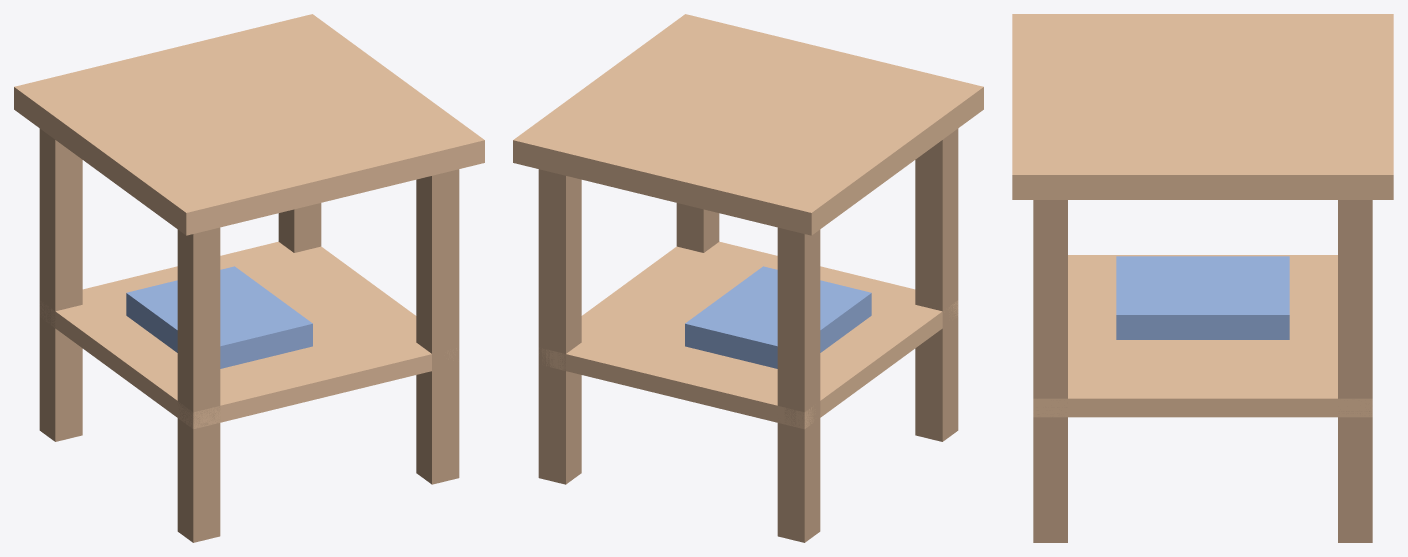
Rendered from sideEndTwoTier.glb.
3 views of the same model, side by side, from view 1: azimuth 30°, elevation 25°; view 2: azimuth 150°, elevation 25°; view 3: azimuth 270°, elevation 25° (orthographic). The views are drawn at different scales.
Visible parts, largest first — view 1: sideEndTwoTier; view 2: sideEndTwoTier; view 3: sideEndTwoTier.
Part boxes in pixels (x1=…): sideEndTwoTier: x1=14, y1=14, x2=484, y2=542; sideEndTwoTier: x1=513, y1=14, x2=983, y2=542; sideEndTwoTier: x1=1012, y1=14, x2=1393, y2=542.
Size of the model in its own units: 0.275 by 0.3 by 0.275.
